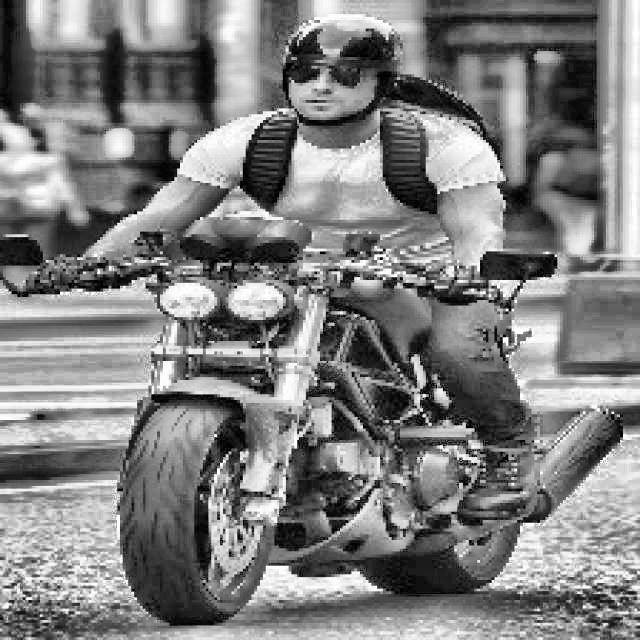motorcycle: (4, 216, 638, 623)
